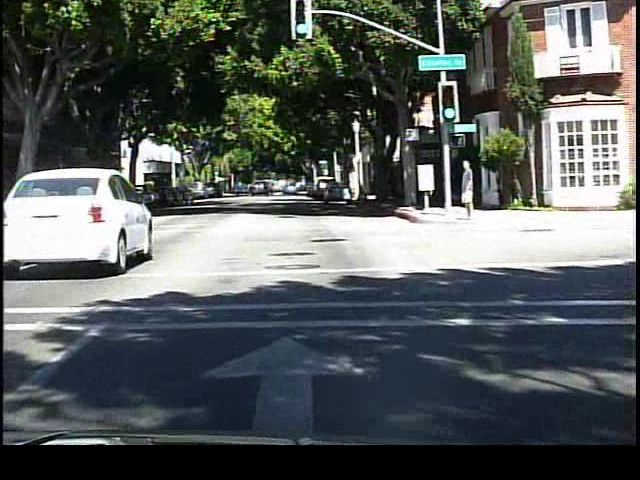person: (457, 158, 478, 219)
